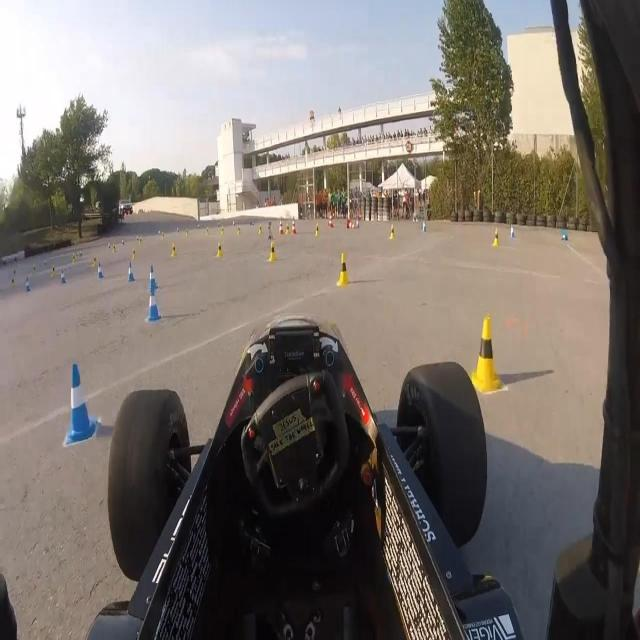blue_cone: (67, 362, 99, 445), (146, 284, 162, 323), (148, 264, 158, 293), (128, 263, 135, 284), (98, 261, 104, 280), (25, 276, 31, 292), (61, 268, 67, 284)
large_orange_cone: (290, 215, 298, 235), (278, 216, 284, 236), (328, 210, 334, 228)
yellow_cone: (471, 314, 502, 393), (337, 250, 351, 287), (268, 242, 278, 262), (215, 240, 223, 259), (170, 241, 178, 259), (492, 228, 499, 248), (390, 223, 396, 241), (314, 222, 321, 237), (286, 222, 290, 236)
